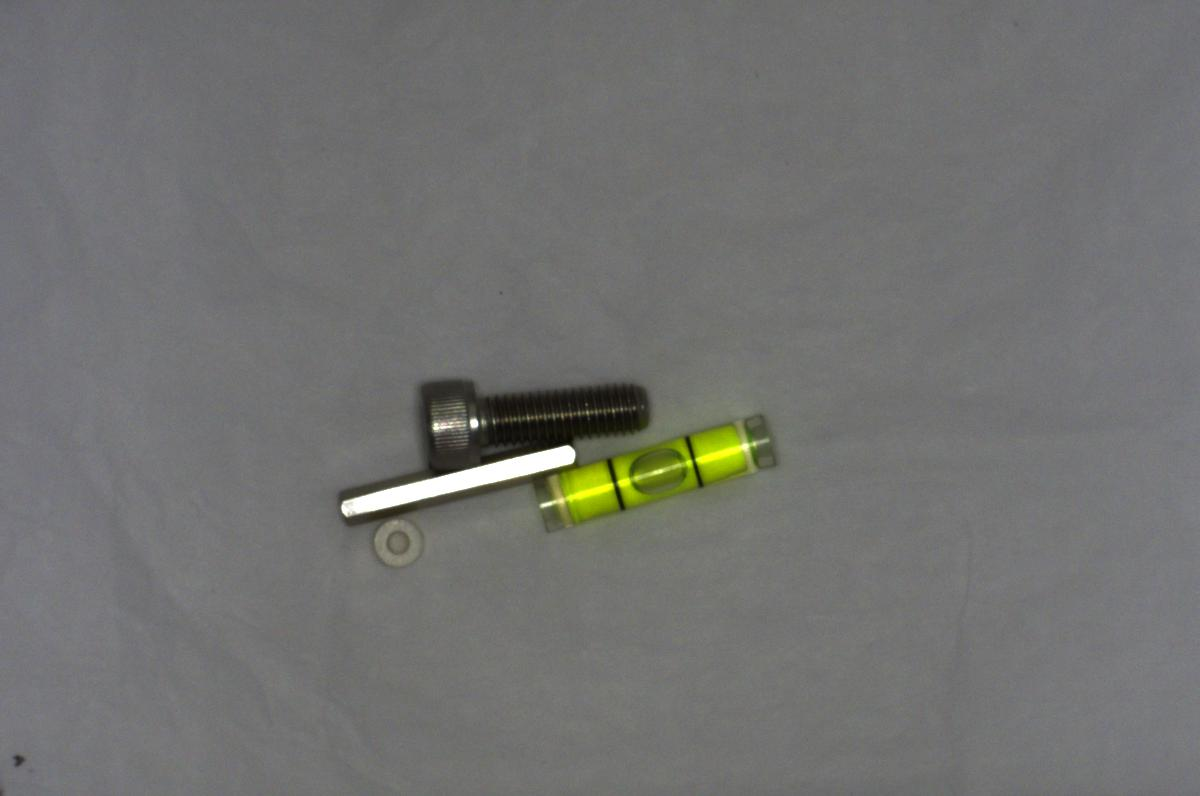Double hexagonal column: (322, 442, 582, 527)
Hexagon screw: (404, 368, 655, 468)
Horizontal bubble: (524, 410, 786, 542)
Plastic cushion pillar: (365, 510, 424, 570)
